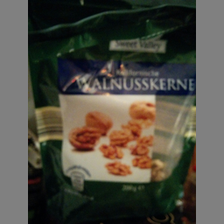nuts: (30, 5, 197, 224)
